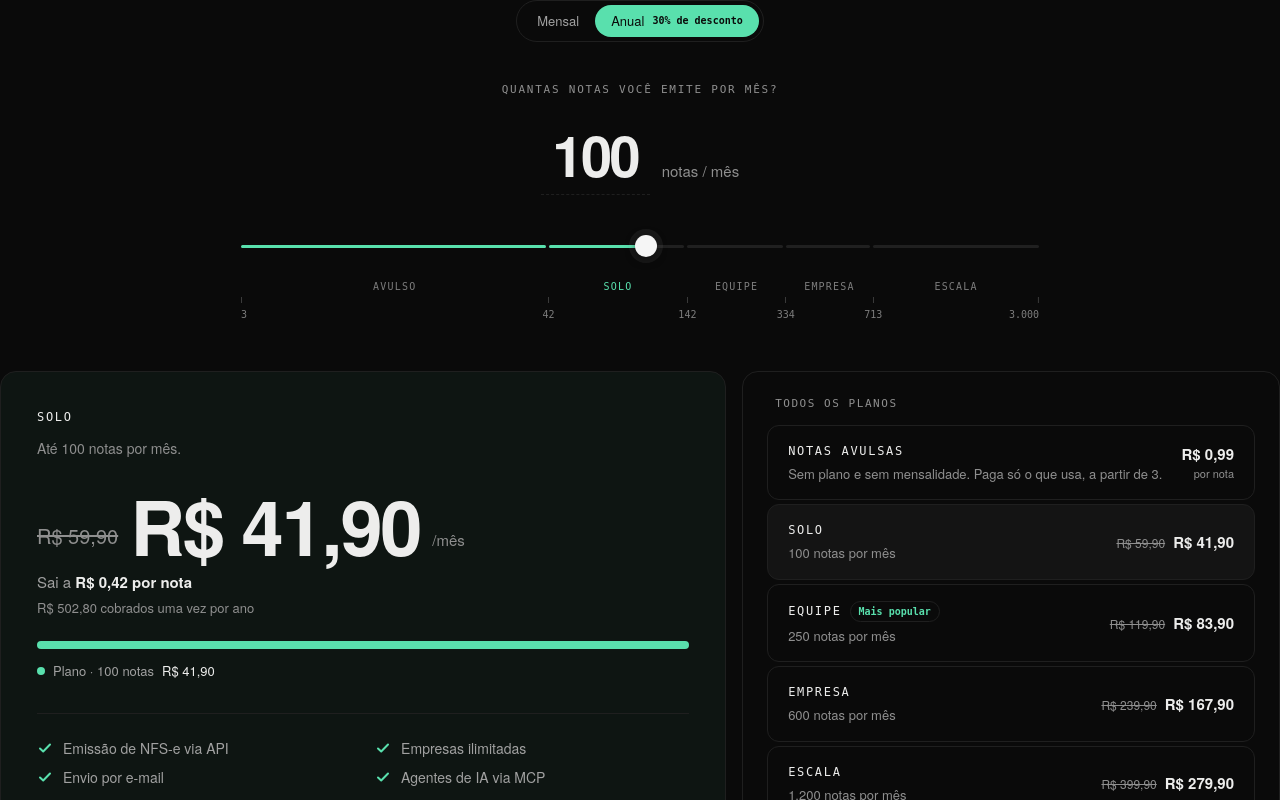
Test case: plan picker › clicking a plan row moves the slider to that plan's full quota
What coordinates should you click on to do the following:
click the button "EMPRESA 600 notas por mês R$ 239,90R$ 167,90"
I would click on:
 (819, 692)
Its box is [767,666,1255,742].
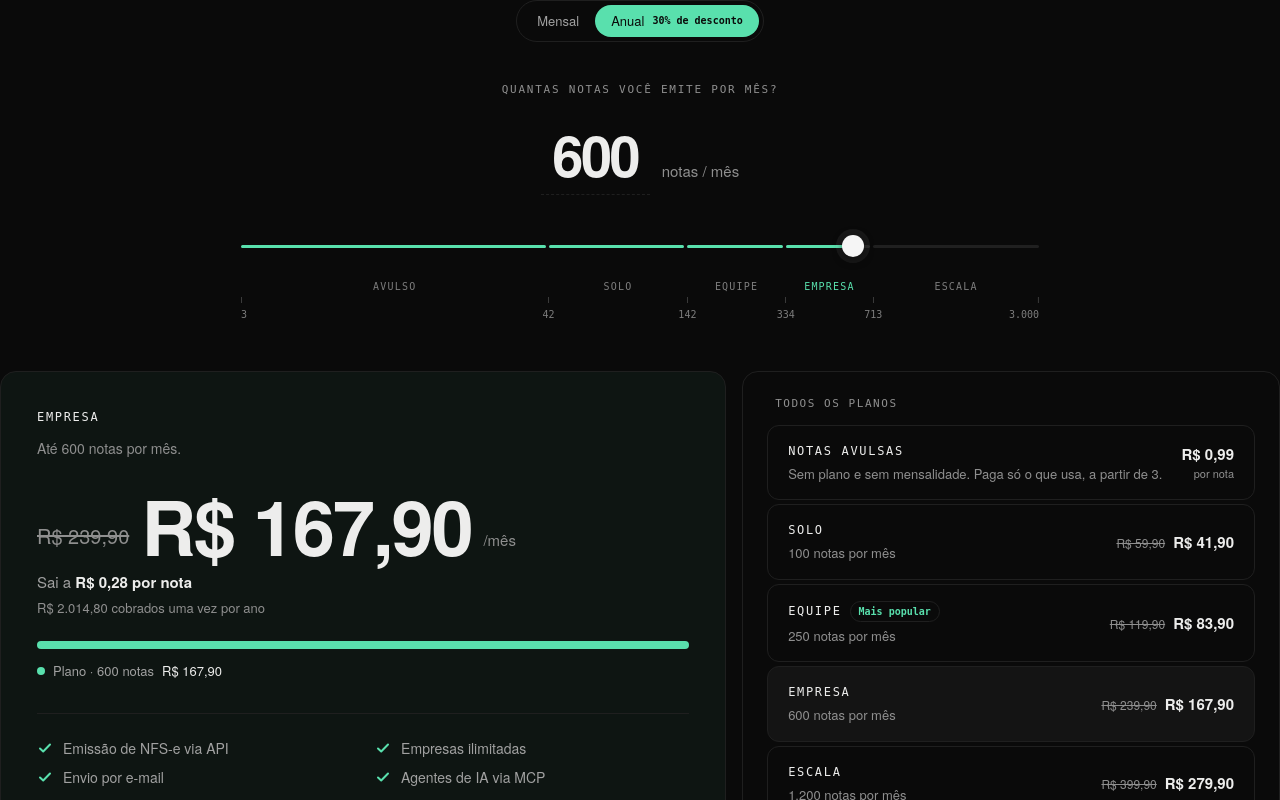
Expected: the element with test id "featured-plan" shows "EMPRESA", [37,410,99,424]
Now the field named "Quantas notas" holds "600", box [541,114,650,195]
